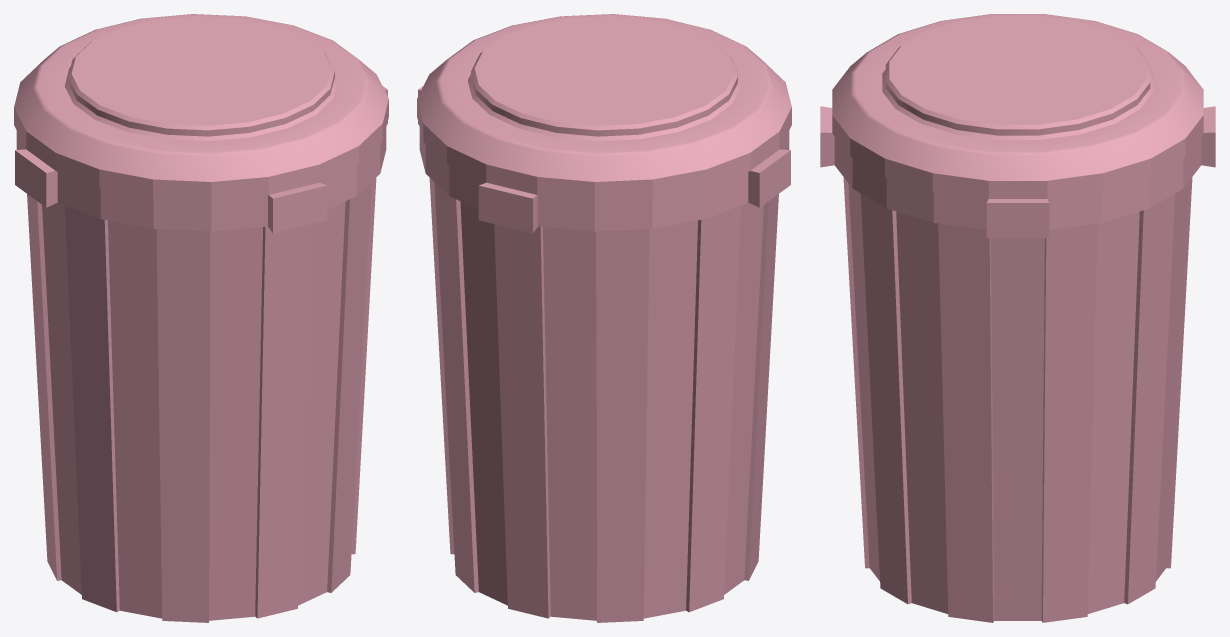
Rendered from Trashcan_body.fbx.
3 views of the same model, side by side, from view 1: azimuth 30°, elevation 25°; view 2: azimuth 150°, elevation 25°; view 3: azimuth 270°, elevation 25° (orthographic).
Visible parts, largest first — view 1: Trashcan_body; view 2: Trashcan_body; view 3: Trashcan_body.
Part boxes in pixels (bbox=[...]): Trashcan_body: bbox=[14, 14, 388, 622]; Trashcan_body: bbox=[417, 14, 791, 622]; Trashcan_body: bbox=[820, 14, 1215, 622].
Bounding box in the file's own units: 85.46 × 116 × 85.46.
